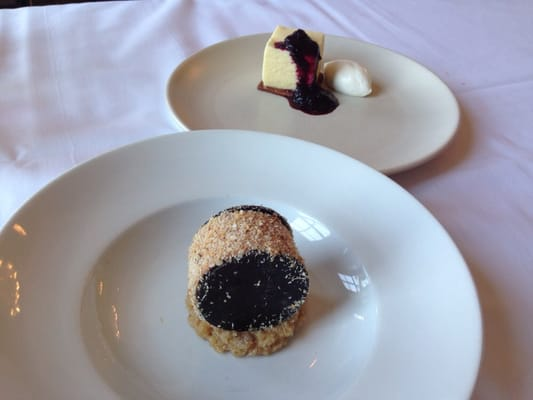curry: (1, 0, 524, 398)
sushi: (184, 206, 309, 358)
